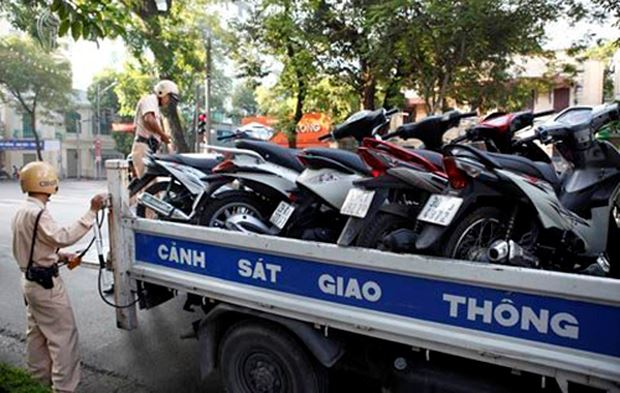police: (15, 154, 115, 390)
